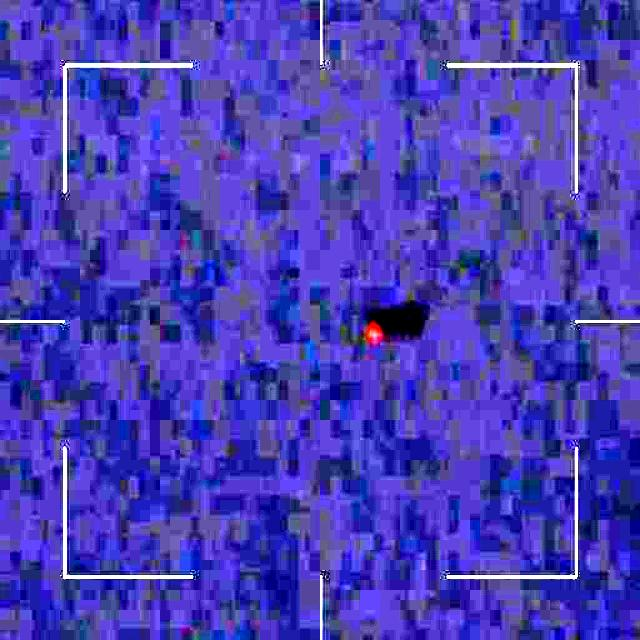bird: (364, 311, 396, 359)
